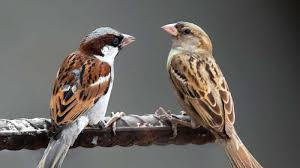hsparrow: (157, 20, 266, 168), (35, 25, 138, 168)
